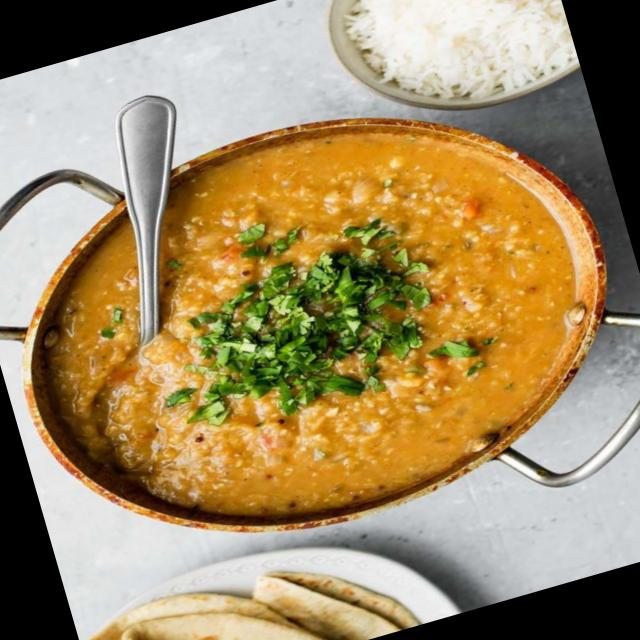dal: (50, 138, 567, 511)
rice: (345, 0, 572, 96)
roti: (89, 571, 424, 640)
